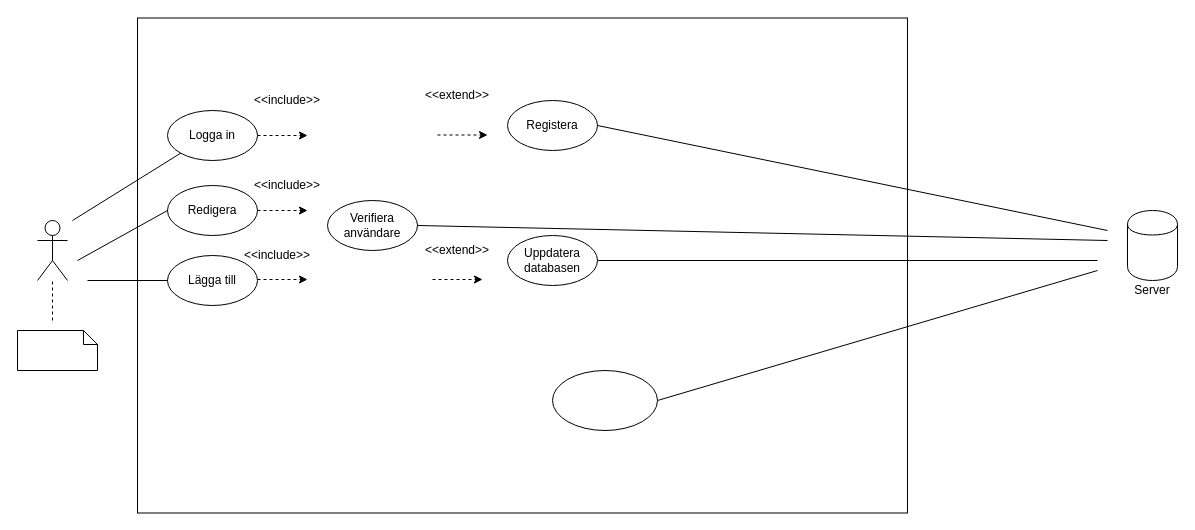
This 1195x530 diagram has some shape labels left out. Each missing label, with the centre of its shape:
Användare: pixel 57 350
Skriva ut vad som finns i databasen: pixel 605 400
